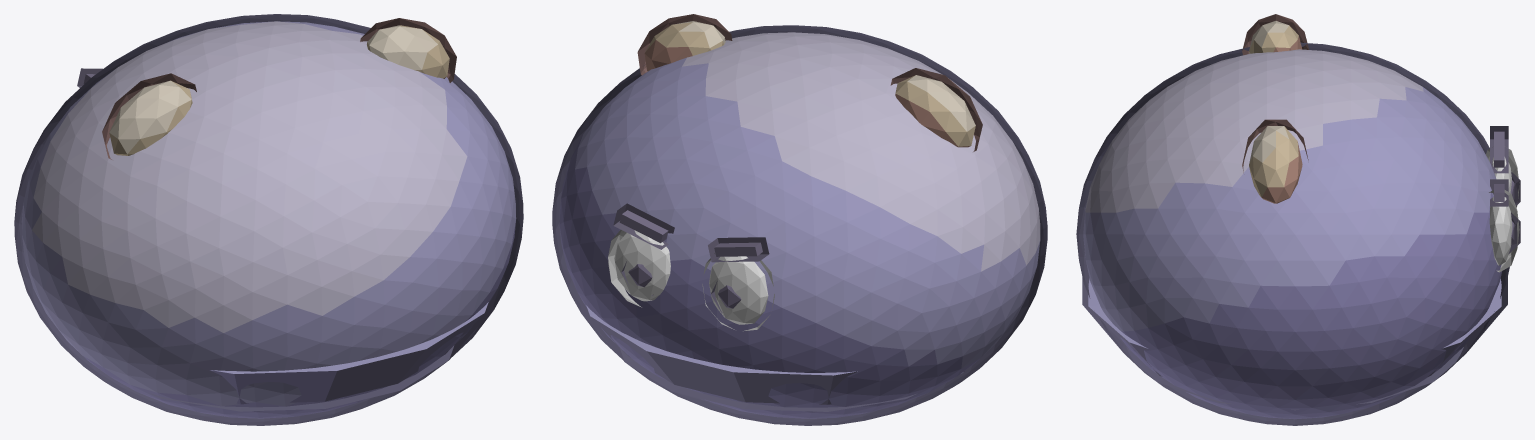
Rendered from enemy_guardian.glb.
3 renders of one model, left to right at view 1: azimuth 30°, elevation 25°; view 2: azimuth 150°, elevation 25°; view 3: azimuth 270°, elevation 25°, orthographic. The views are drawn at different scales.
Parts seen in each view (by area): view 1: enemy_guardian; view 2: enemy_guardian; view 3: enemy_guardian.
Boxes of the visible parts, box(x1,y1,x2,y2) form: enemy_guardian: box(14, 14, 523, 425); enemy_guardian: box(552, 14, 1047, 425); enemy_guardian: box(1076, 14, 1520, 425).
Size of what is drawn, in the model's own units: 24.7 by 18.71 by 23.05.
